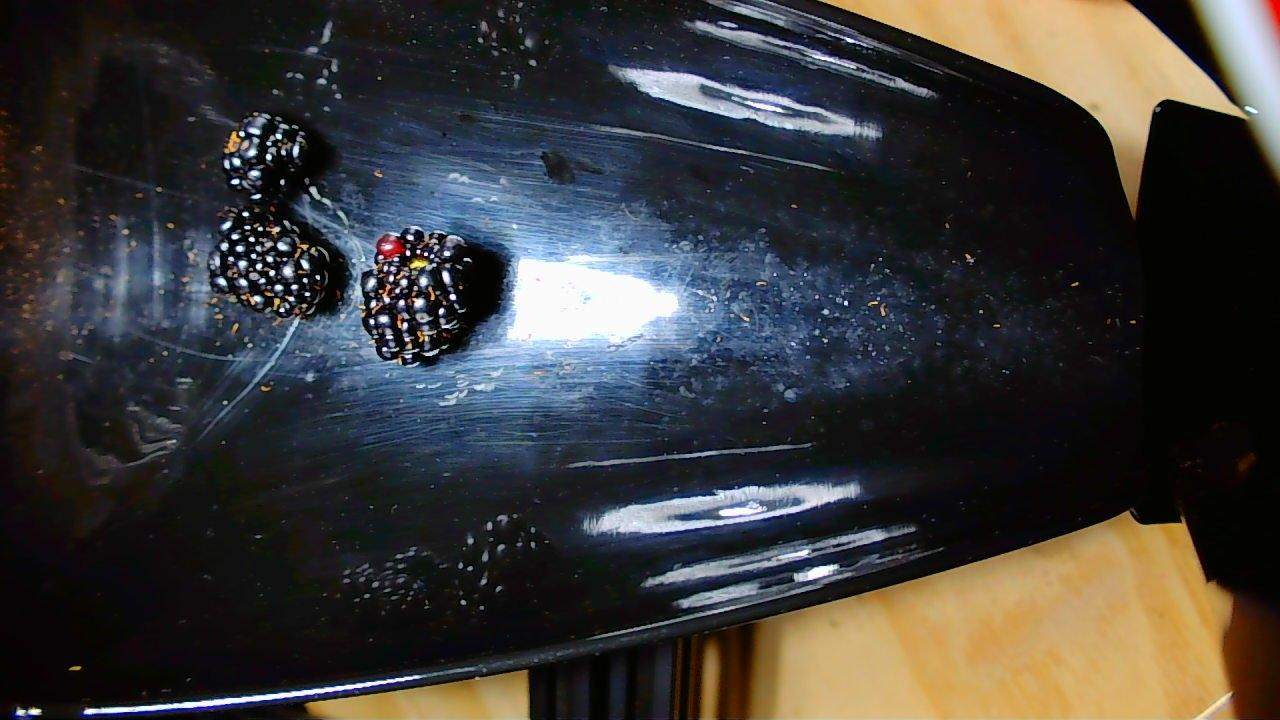berry: (362, 228, 486, 362), (212, 207, 342, 316), (224, 111, 312, 209)
